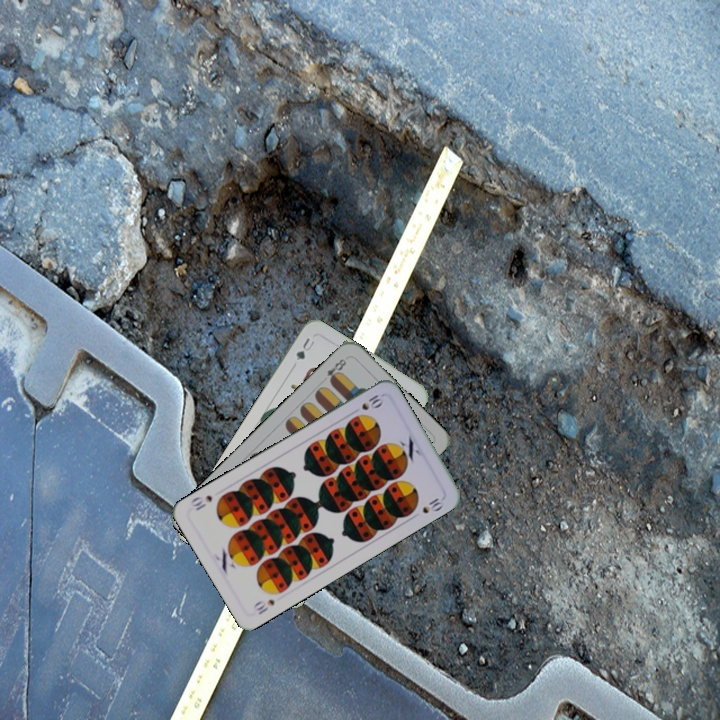E8: (323, 355, 349, 386)
GU: (292, 334, 317, 363)
S10: (357, 390, 386, 413), (249, 595, 277, 617)
